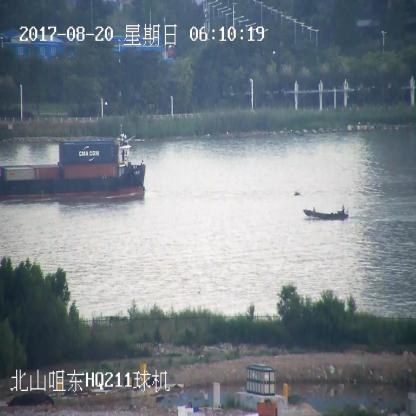Fishing Boat: (303, 204, 348, 222)
